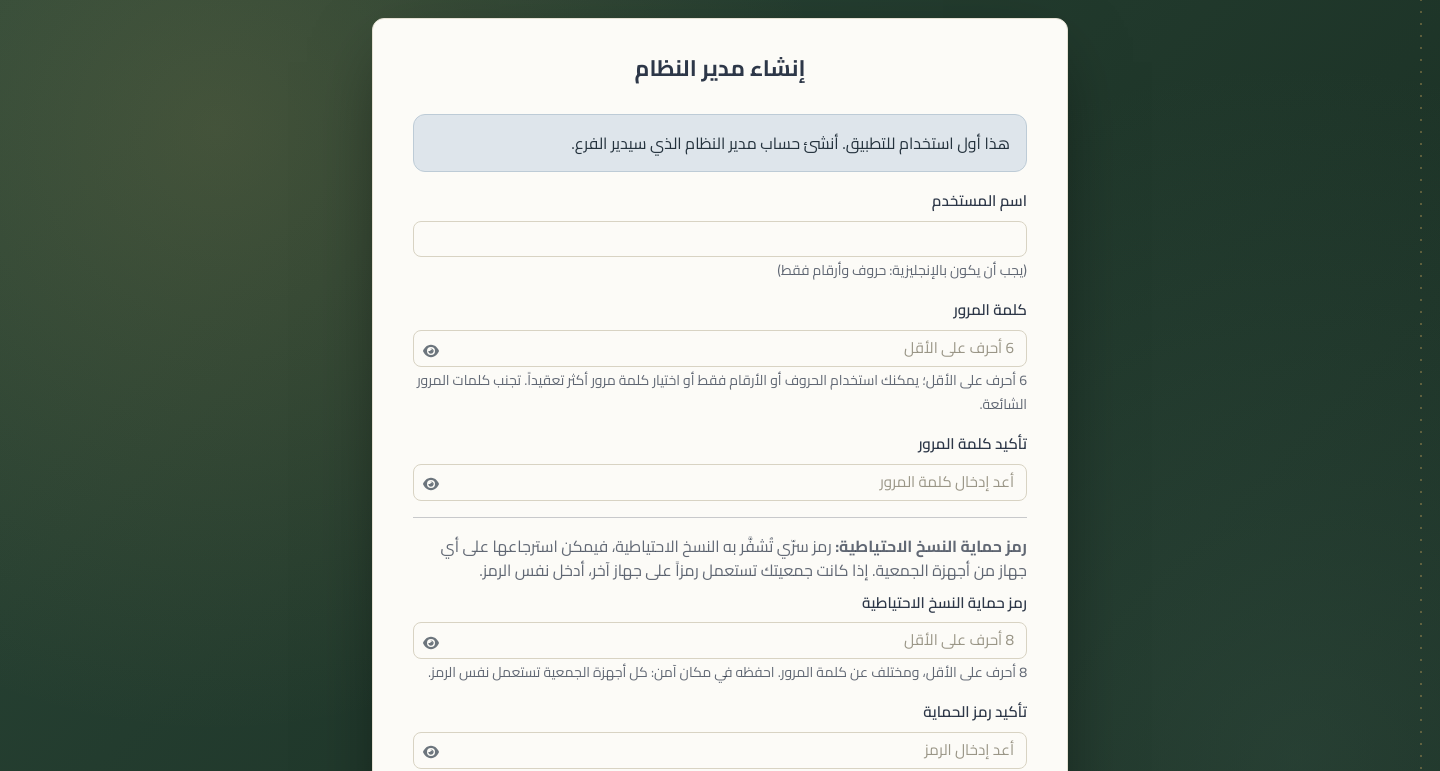
Scenario: LoginPage › should show the setup error message when creation fails
The width and height of the screenshot is (1440, 771).
In the field labelled "اسم المستخدم": [720, 239] box [413,221,1027,258], type "branch_admin"
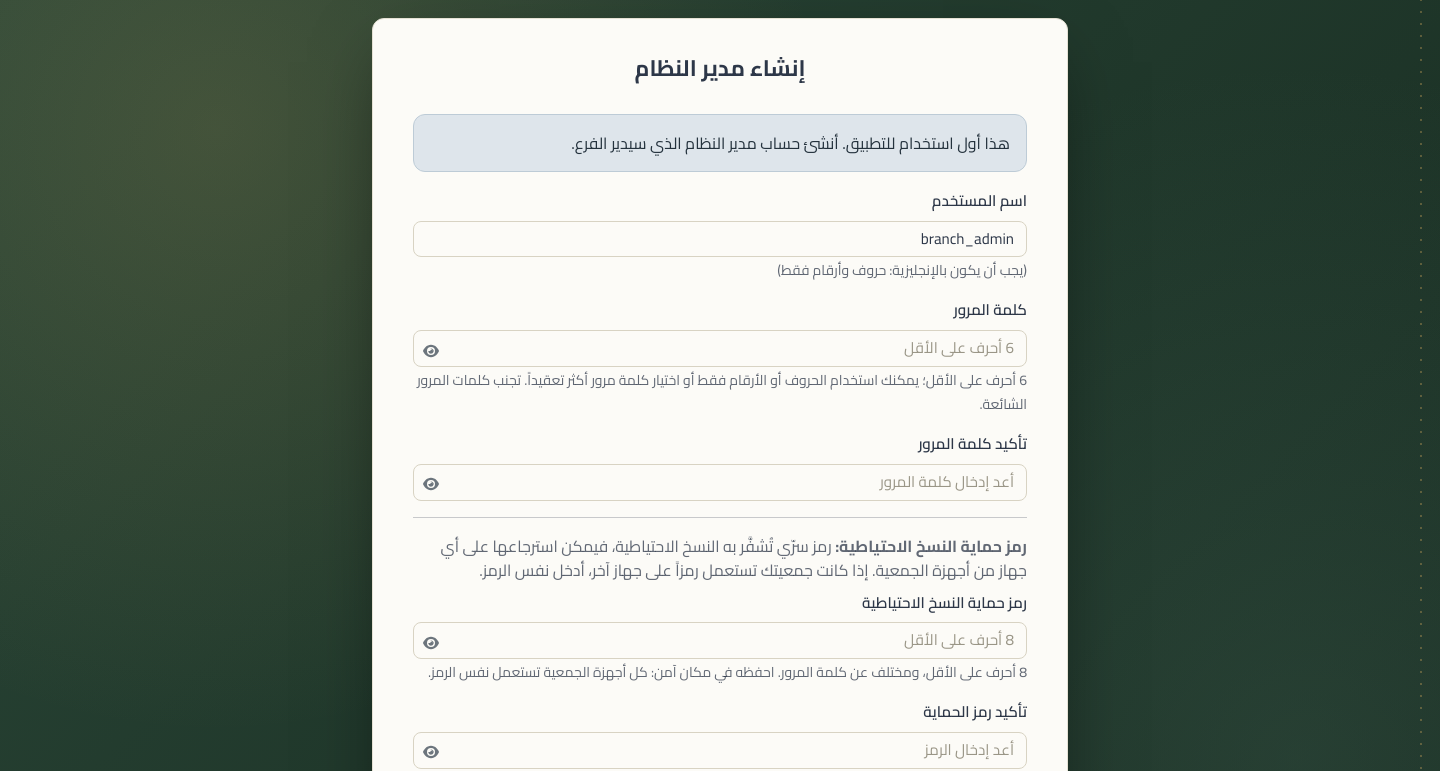
In the password field with placeholder "6 أحرف على الأقل": [720, 349] box [413,330,1027,367], type "Zitouna#Fes2026"
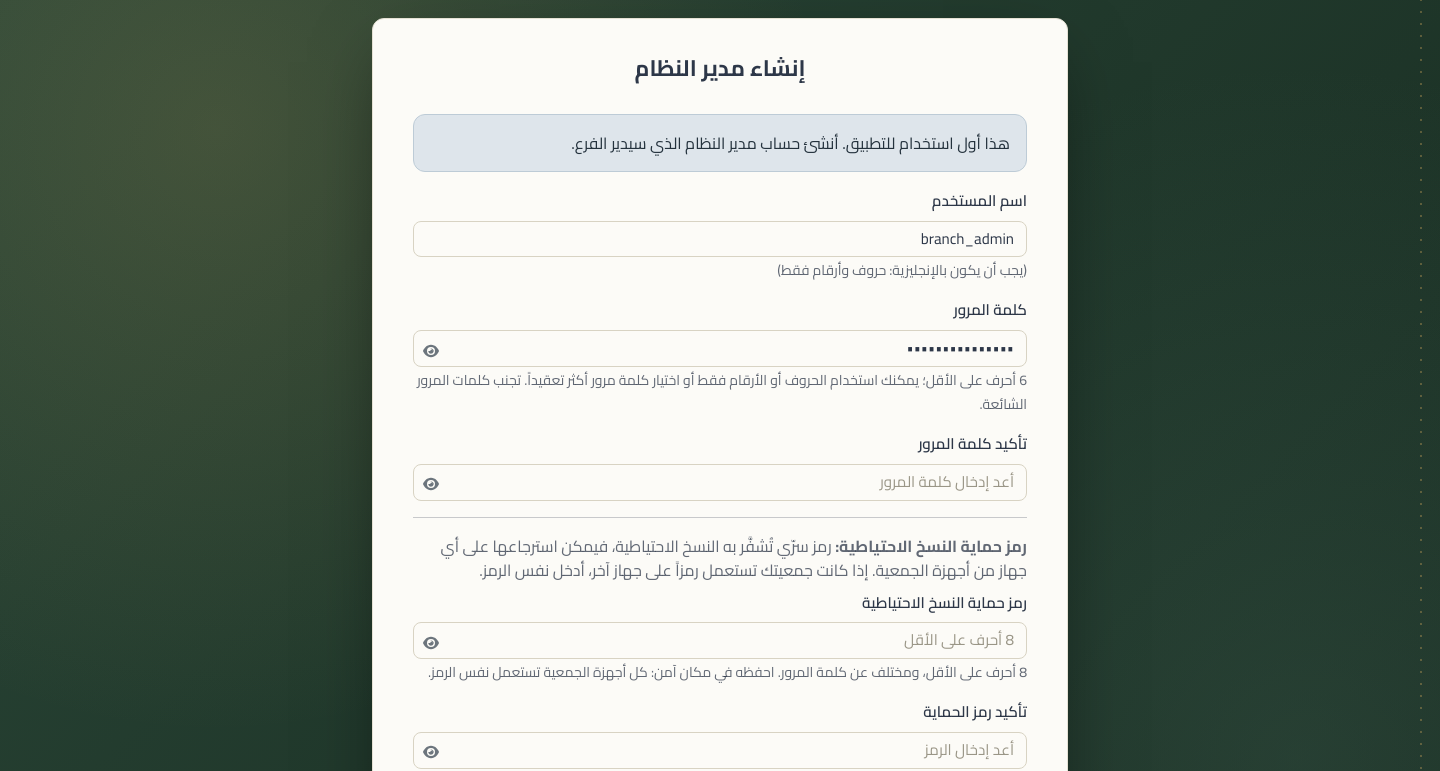
In the password field with placeholder "أعد إدخال كلمة المرور": [720, 482] box [413,464,1027,501], type "Zitouna#Fes2026"
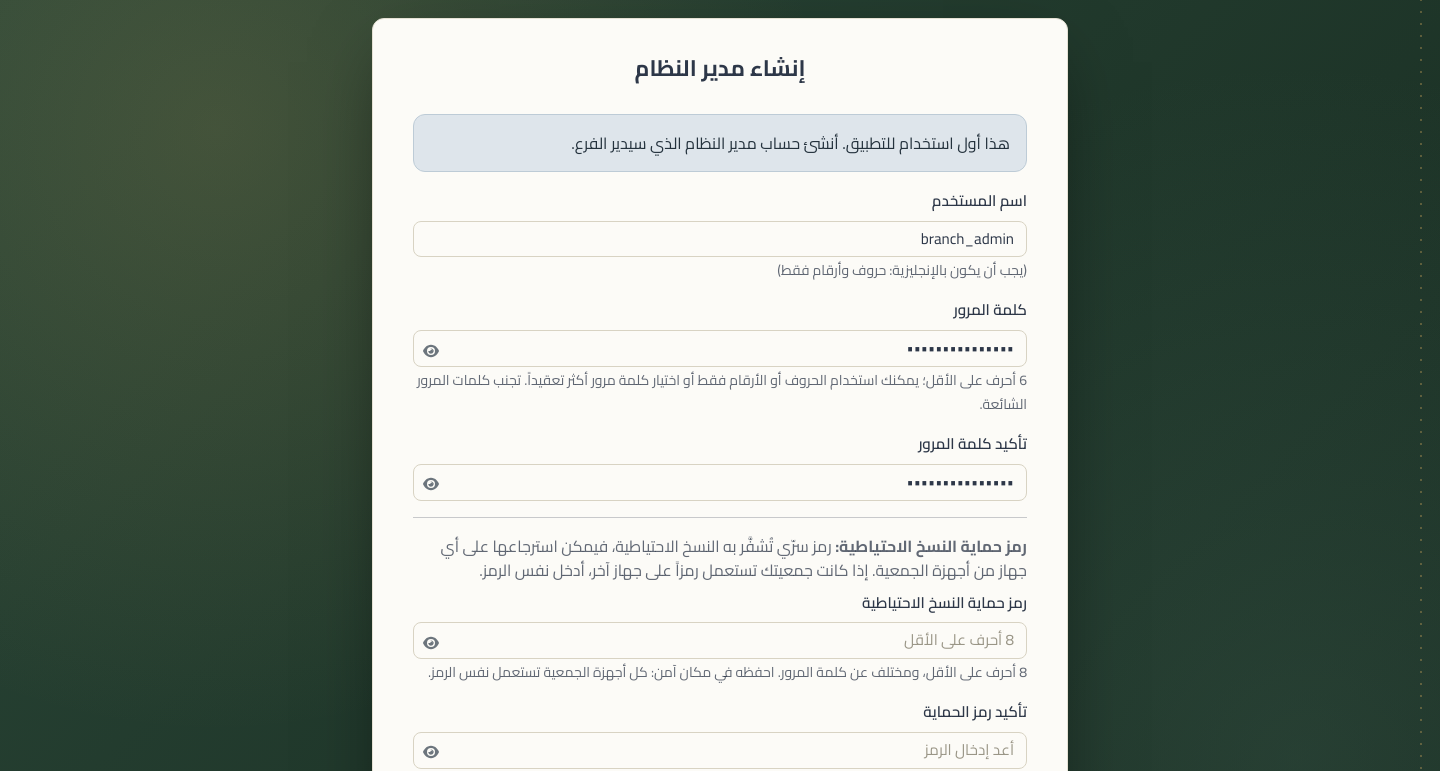
In the password field with placeholder "8 أحرف على الأقل": [720, 641] box [413,622,1027,659], type "branch-transfer-key"
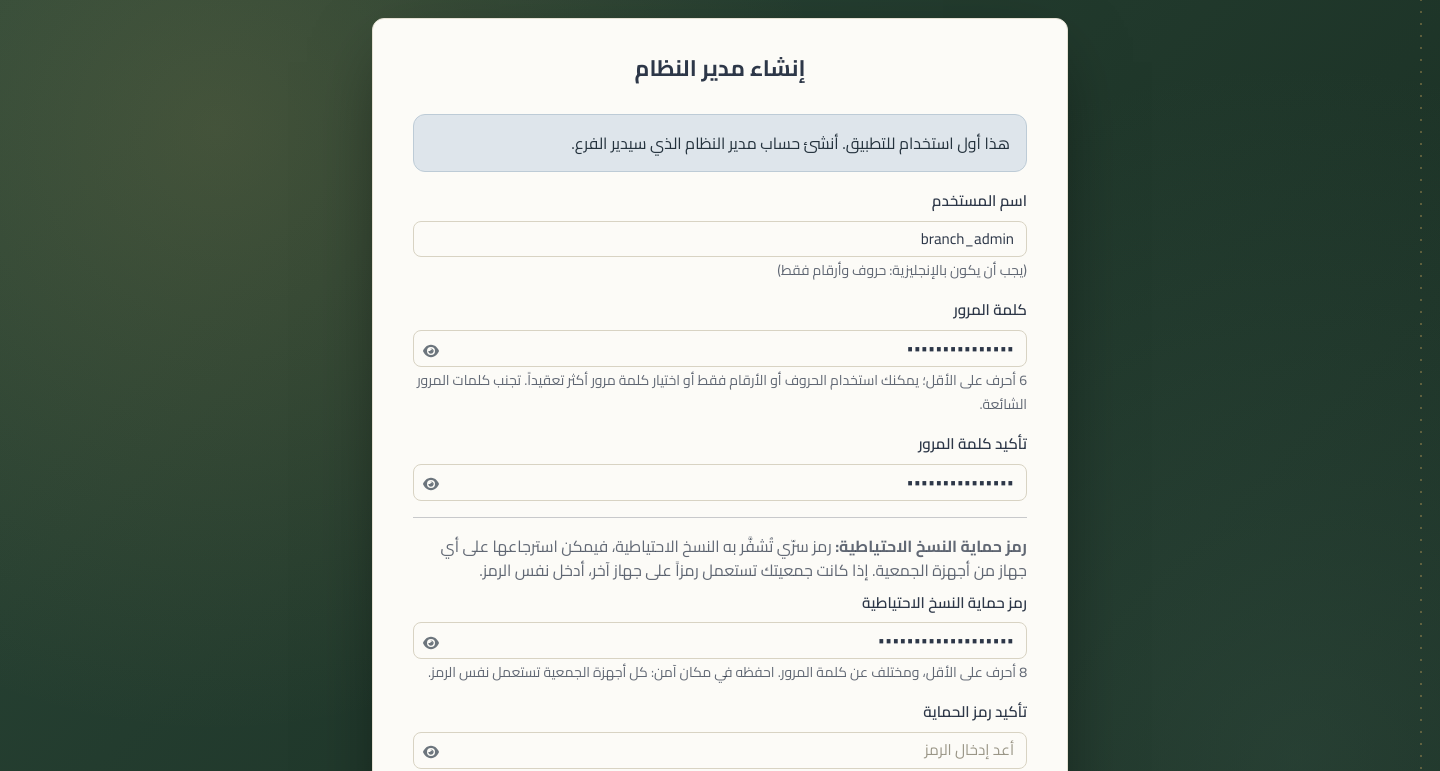
In the password field with placeholder "أعد إدخال الرمز": [720, 750] box [413,732,1027,769], type "branch-transfer-key"
(page scrolled)
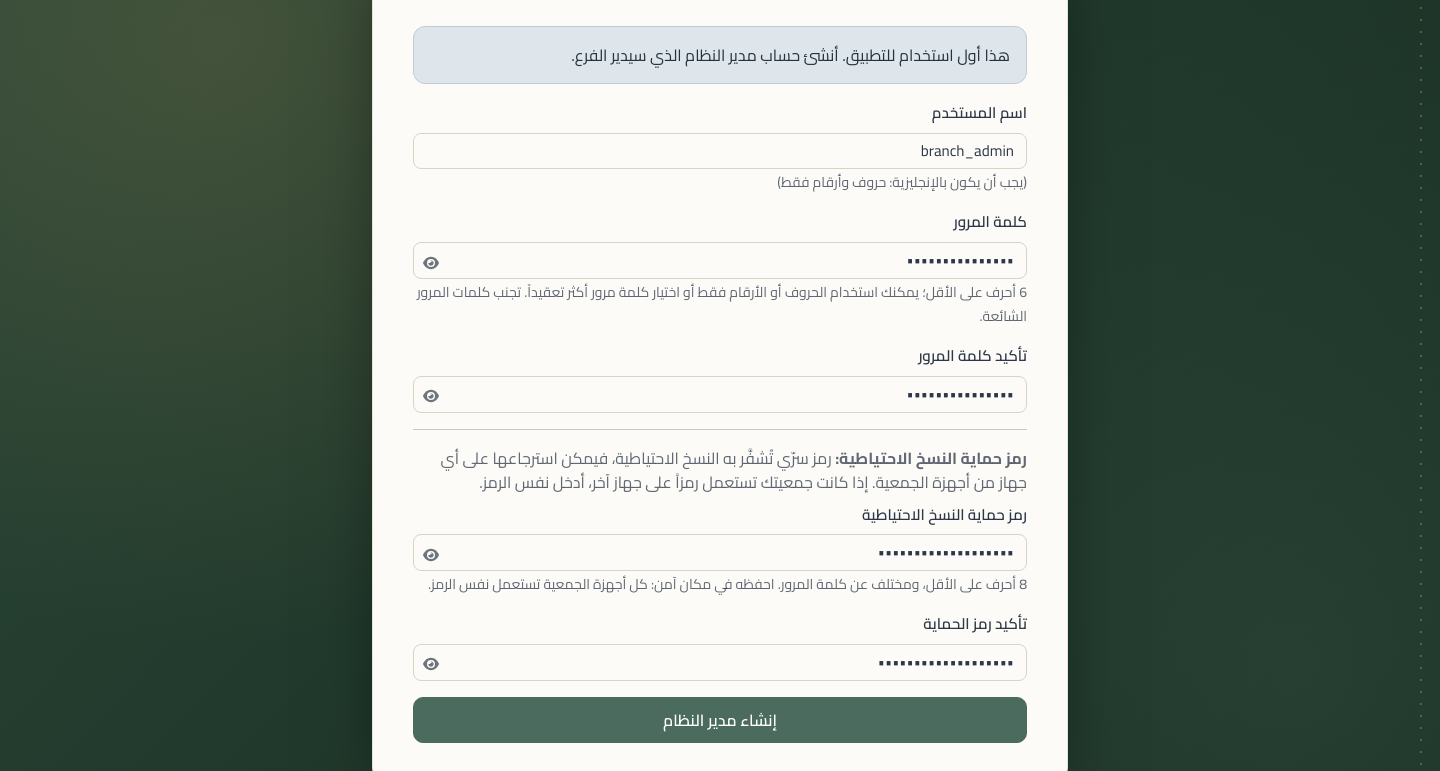
Click the button "إنشاء مدير النظام": [720, 720] box [413,697,1027,743]
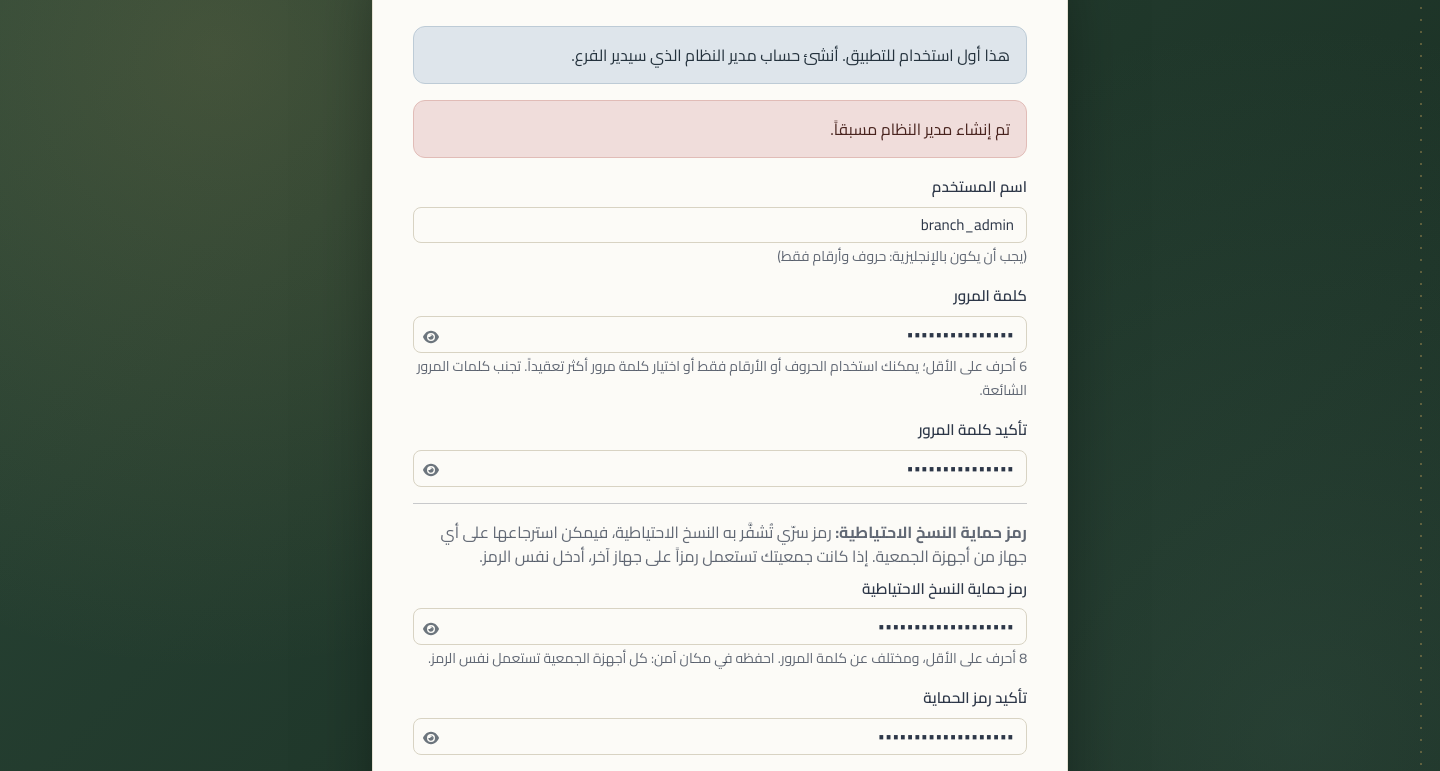
expect the text "تم إنشاء مدير النظام مسبقاً." is shown: met, box [413,100,1027,158]
